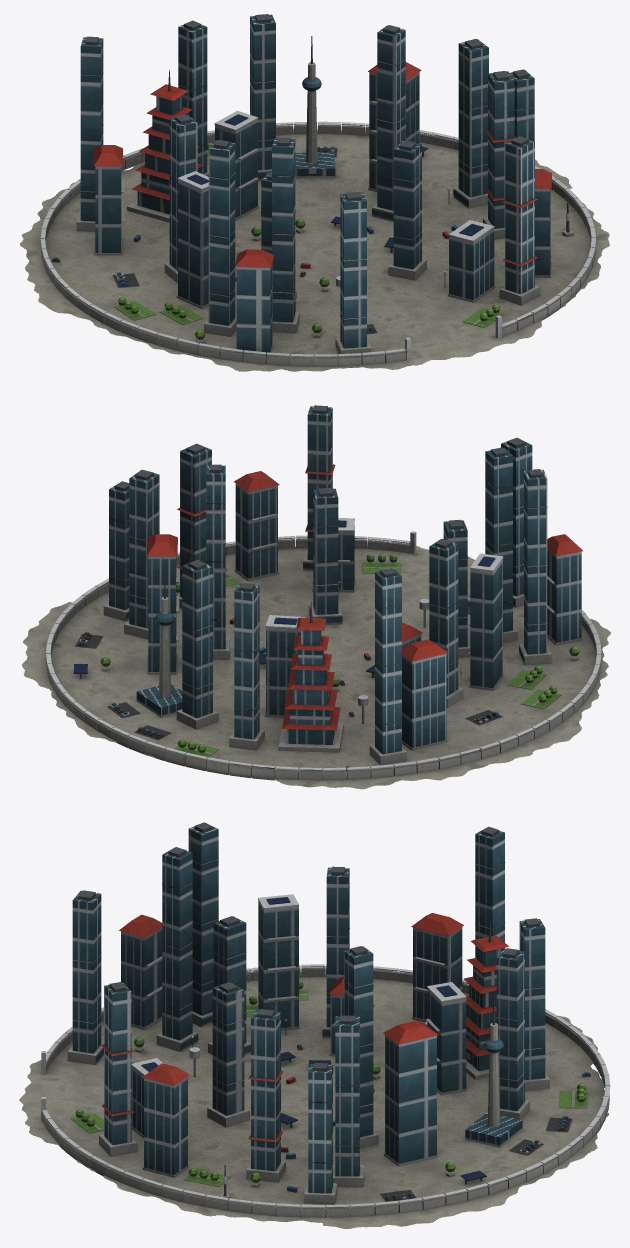
The model's file is information-town-big-a-sinic.glb.
The picture shows the model from 3 angles, top to bottom: view 1: azimuth 30°, elevation 25°; view 2: azimuth 150°, elevation 25°; view 3: azimuth 270°, elevation 25°; orthographic projection. The views are drawn at different scales.
Parts seen in each view (by area): view 1: LOD0; view 2: LOD0; view 3: LOD0.
Boxes of the visible parts, x1=… form: LOD0: x1=20, y1=14, x2=609, y2=371; LOD0: x1=22, y1=405, x2=610, y2=789; LOD0: x1=19, y1=822, x2=610, y2=1228.
Size of what is drawn, in the model's own units: 8.1 by 2.72 by 7.62.
Materials: 3 (3 with a texture image).
